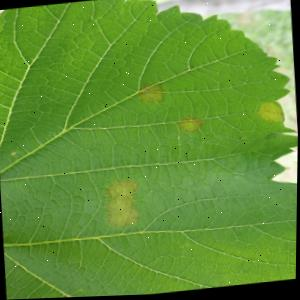Folha: (0, 0, 300, 300)
Fungo: (102, 179, 141, 231), (256, 103, 284, 128), (135, 84, 163, 107), (174, 117, 204, 137), (10, 152, 16, 156)
